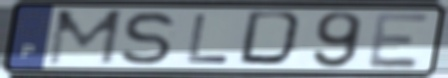9: (311, 10, 364, 70)
D: (235, 9, 310, 70)
E: (366, 11, 433, 70)
L: (184, 12, 232, 65)
M: (44, 8, 126, 67)
S: (117, 10, 178, 67)
